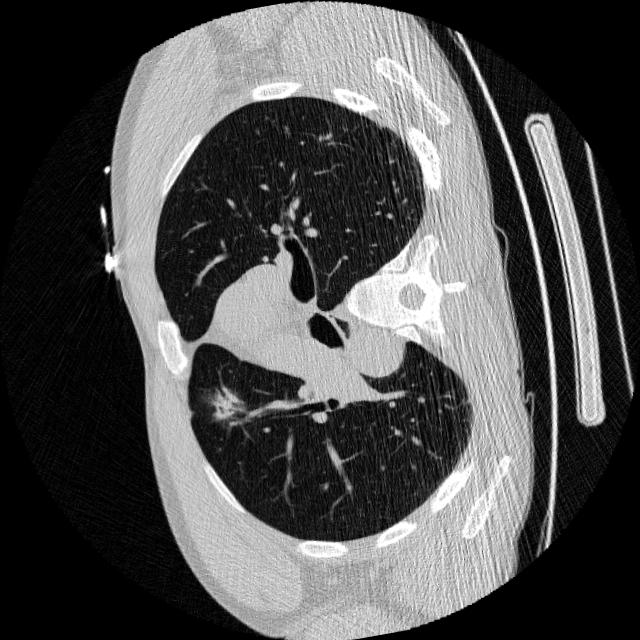nodule: (178, 362, 272, 454)
